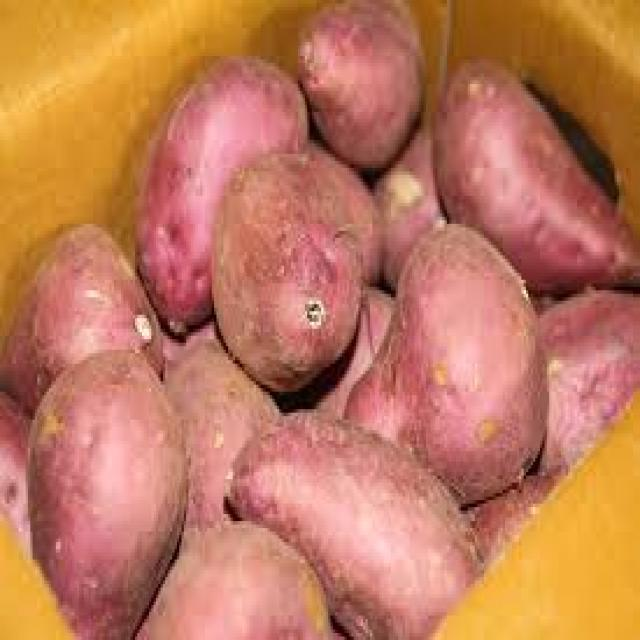organic waste: (221, 406, 473, 636), (342, 216, 542, 504), (130, 52, 308, 336), (430, 49, 638, 290), (23, 342, 182, 636), (210, 136, 363, 399), (0, 217, 163, 399), (156, 328, 279, 546), (126, 518, 330, 636), (295, 0, 423, 164), (530, 280, 638, 472), (272, 283, 396, 416), (375, 119, 447, 283), (463, 479, 568, 567), (0, 388, 35, 542)
